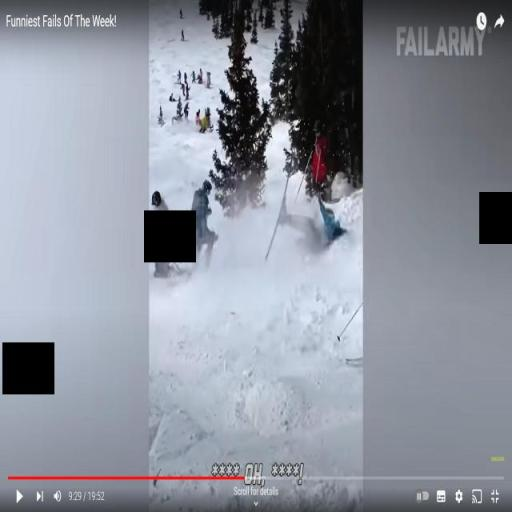Fall: (314, 188, 349, 247)
